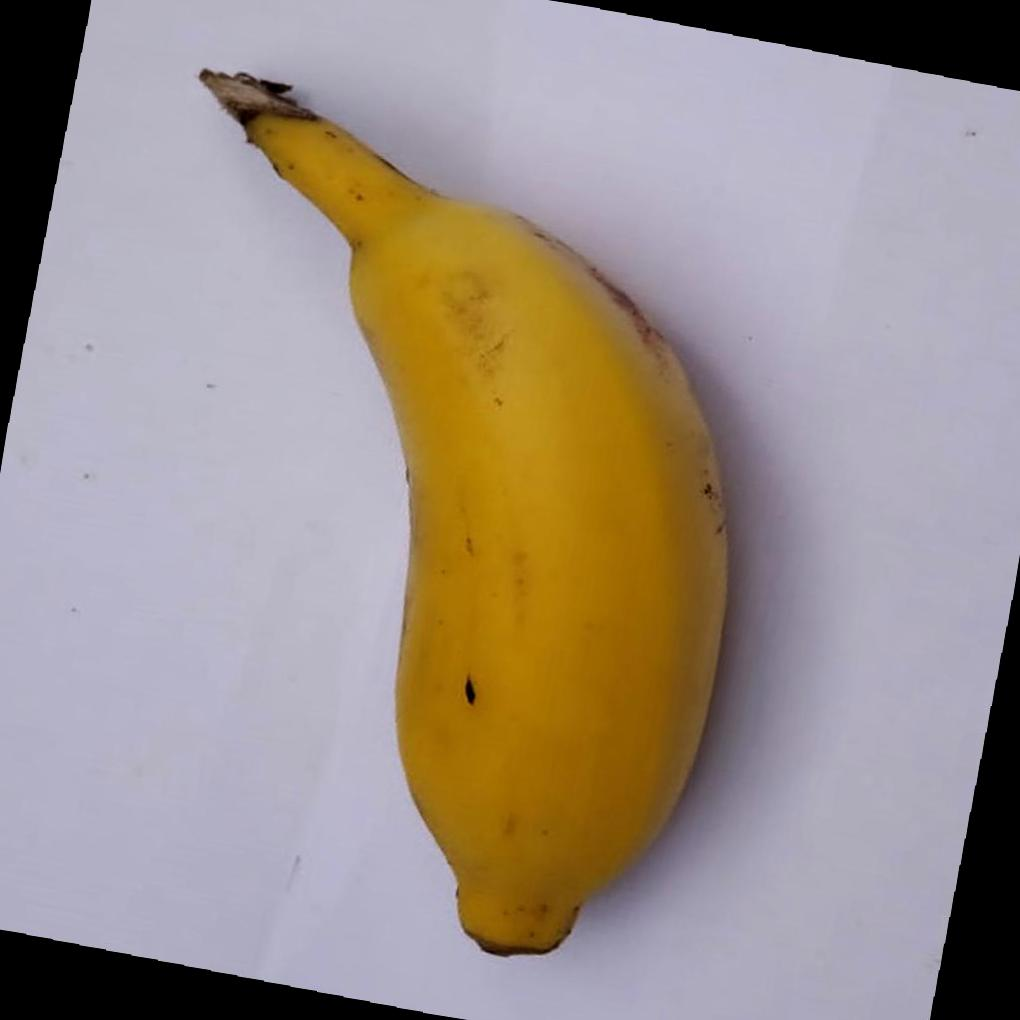Banana Ripe: (109, 73, 884, 1020)
